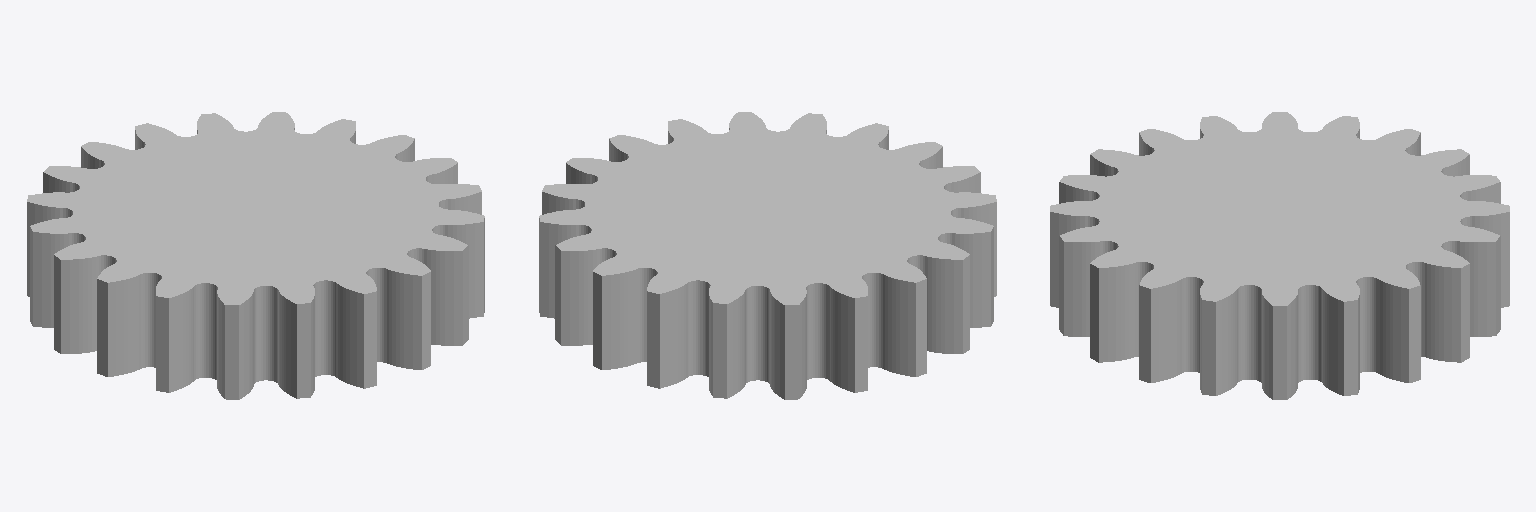
Rendered from gear.obj.
3 views of the same model, side by side, from view 1: azimuth 30°, elevation 25°; view 2: azimuth 150°, elevation 25°; view 3: azimuth 270°, elevation 25° (orthographic).
Visible parts, largest first — view 1: Unnamed-0; view 2: Unnamed-0; view 3: Unnamed-0.
Boxes of the visible parts, <box> form: Unnamed-0: <box>27,112,484,399</box>; Unnamed-0: <box>539,112,996,399</box>; Unnamed-0: <box>1050,112,1509,399</box>.
Size of the model in its own units: 21.99 by 5 by 21.99.